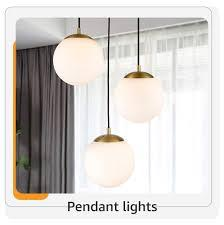light: (82, 10, 137, 188), (114, 18, 155, 128), (53, 18, 103, 90)
